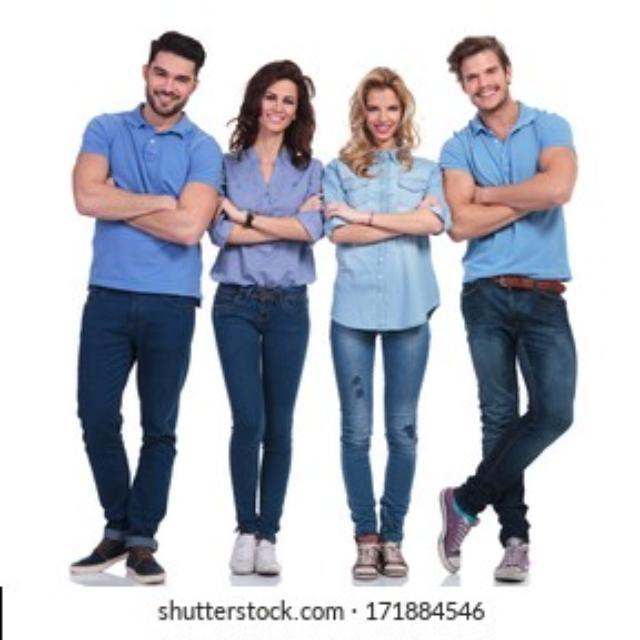person: (66, 22, 222, 604), (429, 30, 588, 586), (328, 56, 448, 590), (223, 60, 327, 580)
